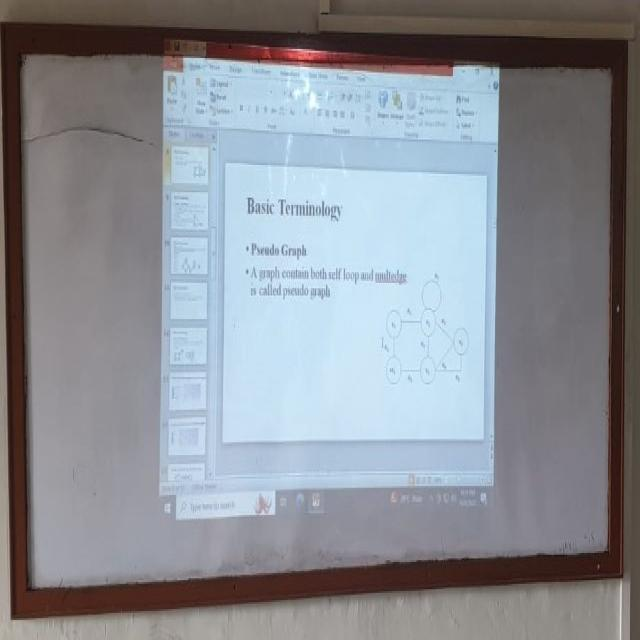Slide: (156, 43, 500, 531)
White-board: (10, 33, 623, 607)
